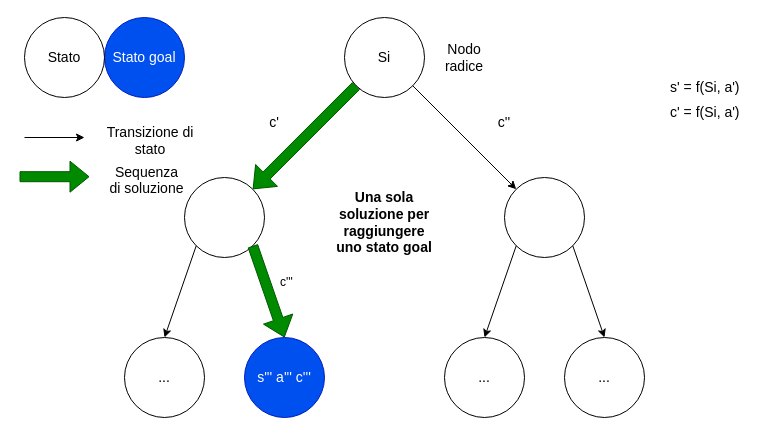
Image size: 762x435. Some labels were removed from this diagram. The shapes that lost their labels are listed below. From the top down, each one's centre as x and y in pixels, then its label:
At [224,217]: "s' a' c'".
At [544,217]: "s'' a'' c''".
